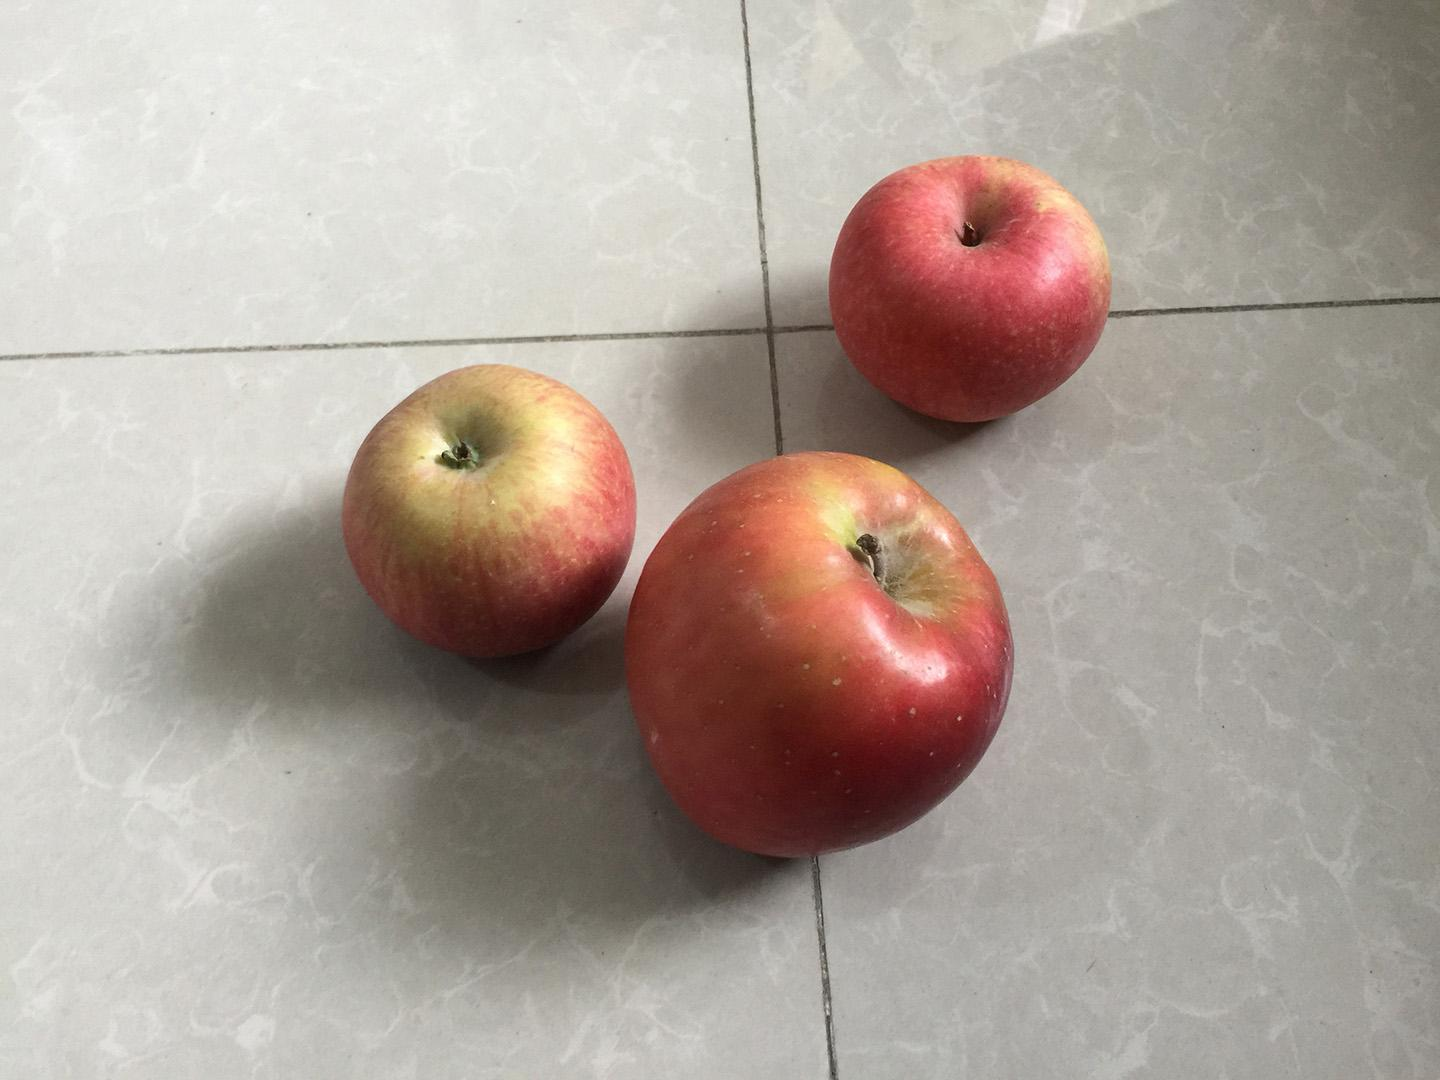apple: (622, 434, 1025, 866), (329, 354, 644, 670), (818, 144, 1128, 433)
